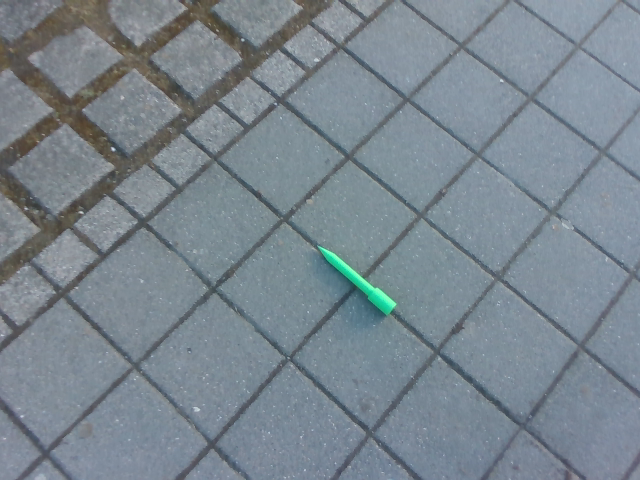Probe: (312, 237, 402, 317)
